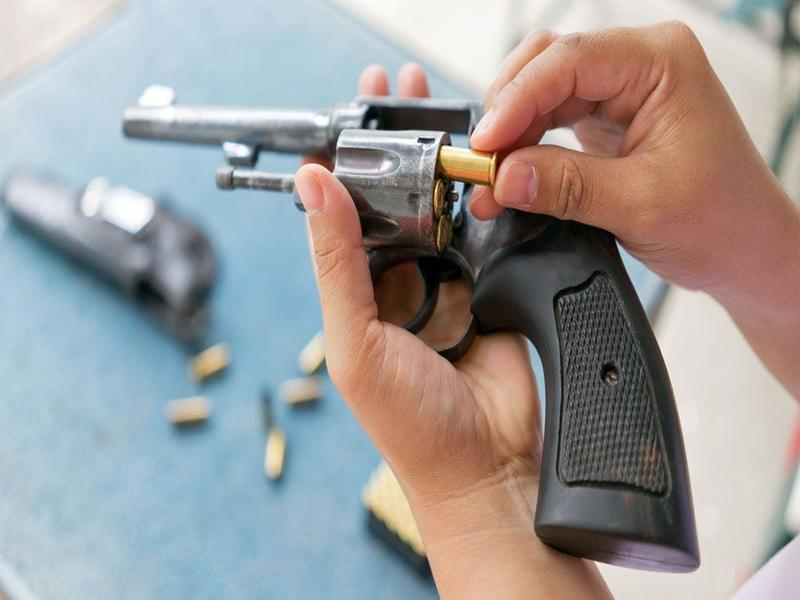GUN: (120, 84, 713, 582)
